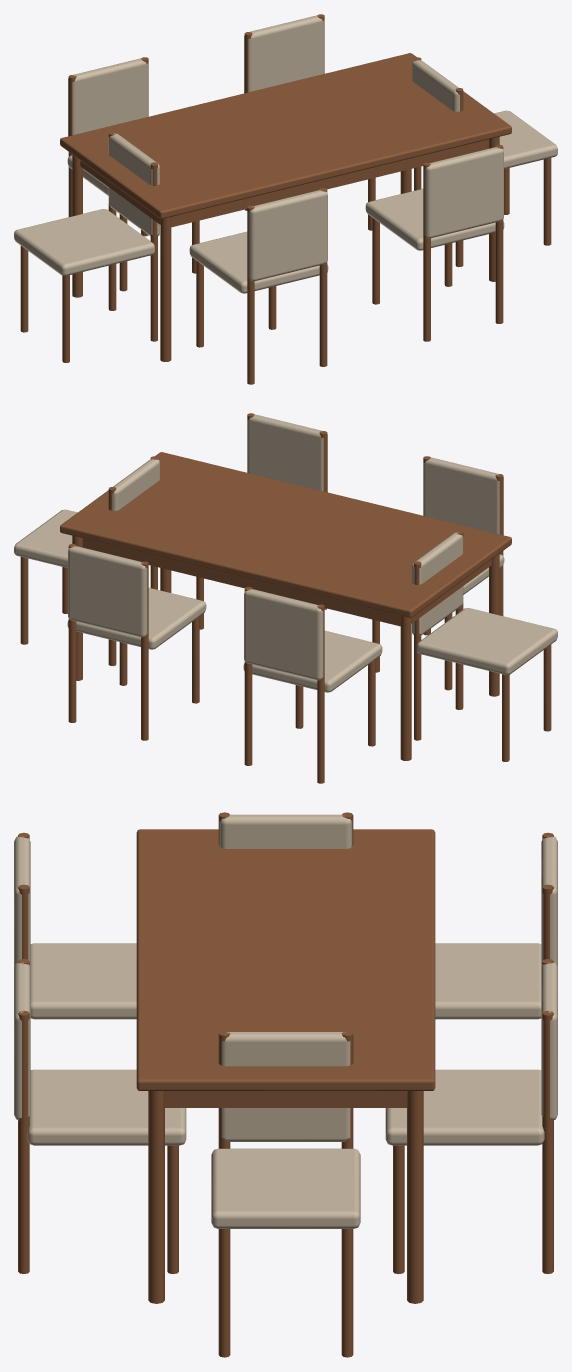
3 views of the same model, one above another, from view 1: azimuth 30°, elevation 25°; view 2: azimuth 150°, elevation 25°; view 3: azimuth 270°, elevation 25° (orthographic). The views are drawn at different scales.
Parts seen in each view (by area): view 1: top, chair-back-1-back, chair-back-2-back, chair-end-left-seat, chair-front-1-back, chair-front-2-back, apron, chair-back-1-seat, chair-back-2-seat, chair-end-left-back, chair-end-right-seat, leg-3 (+14 smaller); view 2: top, chair-front-1-back, chair-front-2-back, chair-end-left-seat, chair-back-1-back, chair-back-2-back, apron, chair-front-1-seat, chair-front-2-seat, chair-end-left-back, chair-end-right-seat, leg-1 (+14 smaller); view 3: top, chair-end-right-seat, chair-back-2-seat, chair-front-2-seat, chair-end-right-back, chair-back-1-seat, chair-front-1-seat, chair-end-left-back, apron, leg-2, leg-4, chair-back-2-leg-back-right (+9 smaller).
Part boxes in pixels (bbox=[...]): top: bbox=[60, 53, 511, 218]; chair-back-1-back: bbox=[248, 190, 327, 281]; chair-back-2-back: bbox=[424, 147, 503, 238]; chair-end-left-seat: bbox=[14, 209, 154, 275]; chair-front-1-back: bbox=[68, 58, 148, 136]; chair-front-2-back: bbox=[244, 15, 324, 93]; apron: bbox=[80, 139, 489, 227]; chair-back-1-seat: bbox=[189, 231, 328, 293]; chair-back-2-seat: bbox=[365, 188, 504, 250]; chair-end-left-back: bbox=[108, 133, 159, 235]; chair-end-right-seat: bbox=[494, 110, 557, 168]; leg-3: bbox=[160, 217, 171, 361]; top: bbox=[60, 452, 511, 617]; chair-front-1-back: bbox=[244, 589, 323, 680]; chair-front-2-back: bbox=[68, 546, 147, 637]; chair-end-left-seat: bbox=[417, 608, 557, 674]; chair-back-1-back: bbox=[423, 457, 503, 535]; chair-back-2-back: bbox=[247, 414, 327, 492]; apron: bbox=[82, 538, 491, 626]; chair-front-1-seat: bbox=[243, 630, 382, 692]; chair-front-2-seat: bbox=[67, 587, 206, 649]; chair-end-left-back: bbox=[412, 532, 463, 634]; chair-end-right-seat: bbox=[14, 509, 77, 567]; leg-1: bbox=[400, 616, 411, 760]; top: bbox=[136, 829, 435, 1090]; chair-end-right-seat: bbox=[211, 1148, 360, 1228]; chair-back-2-seat: bbox=[27, 1069, 186, 1145]; chair-front-2-seat: bbox=[385, 1069, 544, 1145]; chair-end-right-back: bbox=[221, 1032, 350, 1141]; chair-back-1-seat: bbox=[30, 943, 136, 1019]; chair-front-1-seat: bbox=[435, 943, 541, 1019]; chair-end-left-back: bbox=[219, 814, 352, 848]; apron: bbox=[165, 1091, 406, 1107]; leg-2: bbox=[407, 1091, 423, 1303]; leg-4: bbox=[148, 1091, 164, 1303]; chair-back-2-leg-back-right: bbox=[18, 1011, 29, 1273].
Size of the model in its own units: 2.54 by 0.86 by 1.64.
